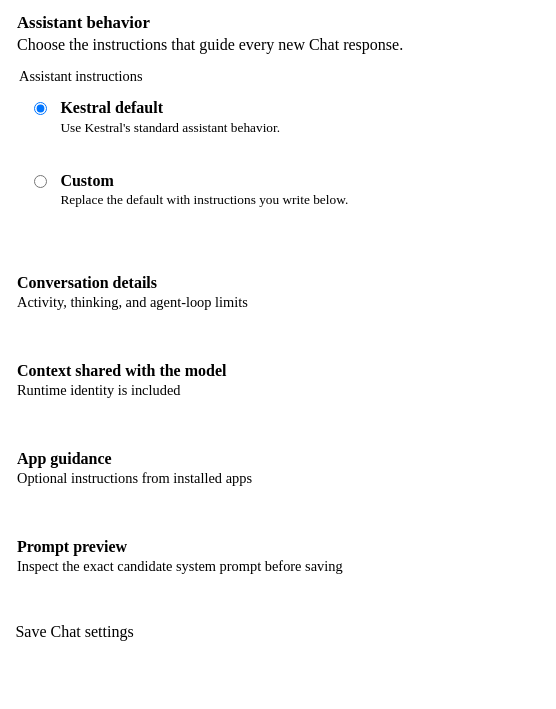
it: ChatPromptSettings › surfaces preview errors
This screenshot has width=556, height=709.
Click the text "Prompt preview" at (72, 546), box [17,538,127,555]
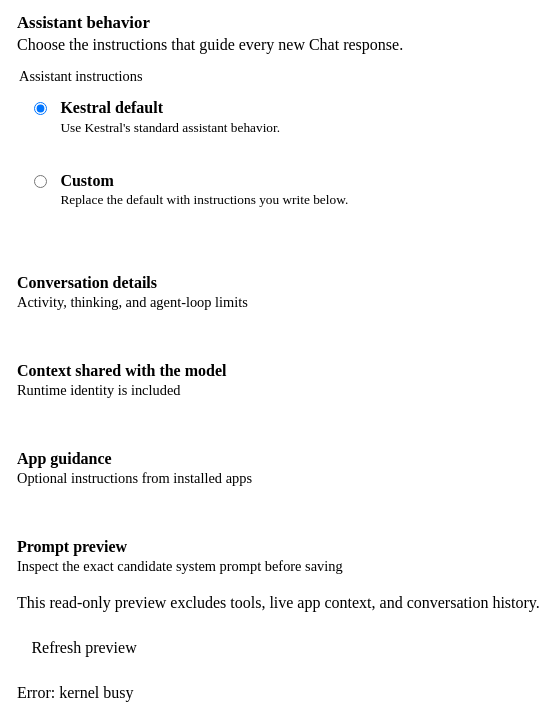
Expected: the message shows "kernel busy", [17,684,133,700]
